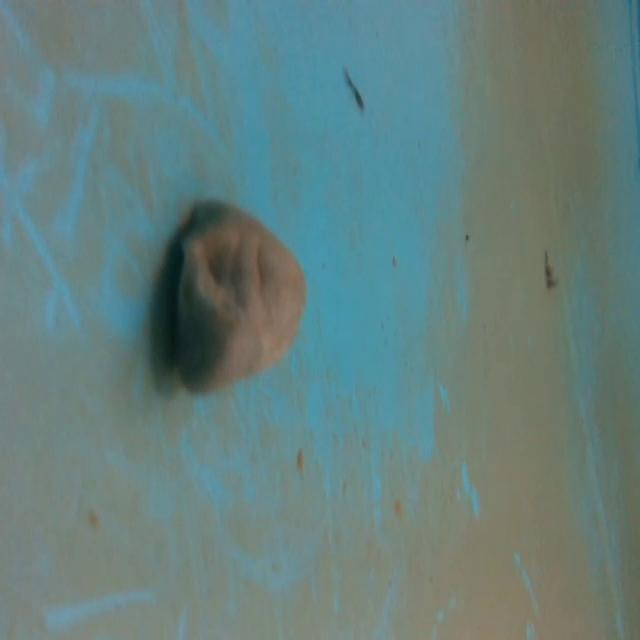rock: (162, 193, 313, 408)
